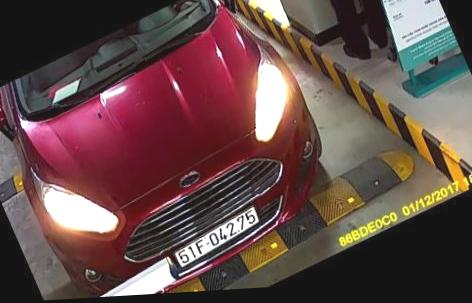License_Plate: (169, 203, 266, 269)
